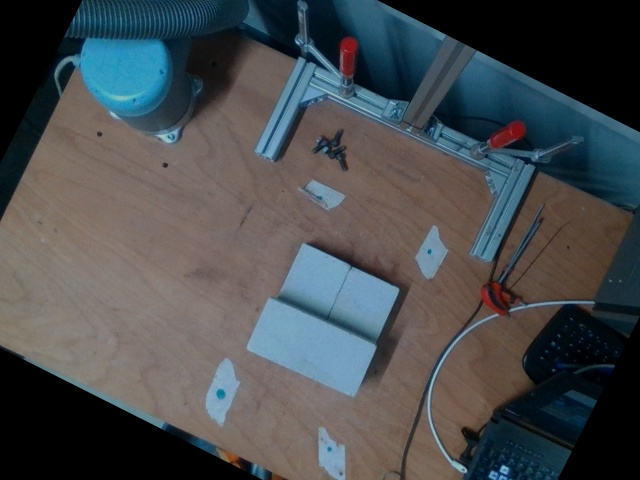brick: (246, 298, 378, 398)
